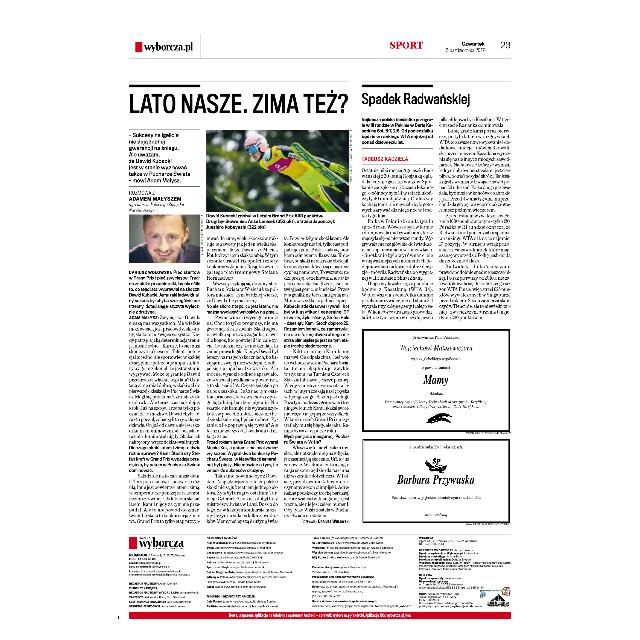article: (126, 84, 352, 526), (361, 84, 513, 324)
